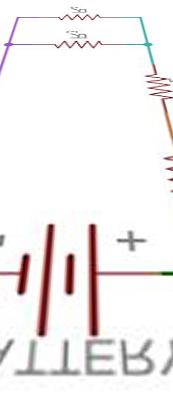resistor: (141, 62, 172, 116), (47, 32, 111, 58), (57, 7, 103, 23)
